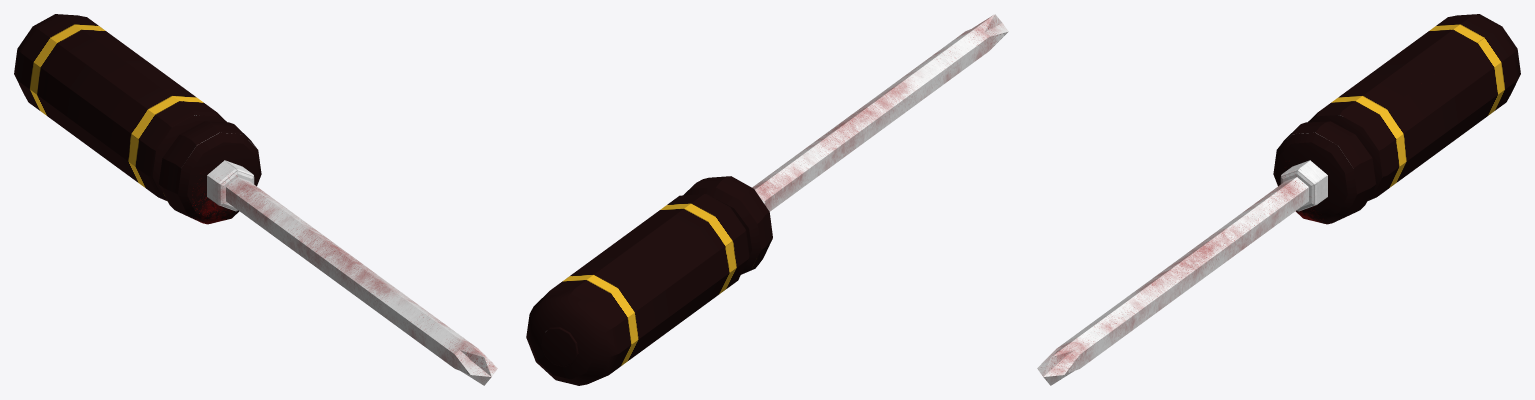
The model's file is Obeng.fbx.
3 views of the same model, side by side, from view 1: azimuth 30°, elevation 25°; view 2: azimuth 150°, elevation 25°; view 3: azimuth 330°, elevation 25° (orthographic).
Visible parts, largest first — view 1: Cylinder.002, Cylinder.003, Cylinder.001; view 2: Cylinder.002, Cylinder.003; view 3: Cylinder.002, Cylinder.003, Cylinder.001.
Boxes of the visible parts, x1=… form: Cylinder.002: x1=14, y1=14, x2=261, y2=224; Cylinder.003: x1=226, y1=177, x2=497, y2=385; Cylinder.001: x1=207, y1=160, x2=254, y2=211; Cylinder.002: x1=526, y1=176, x2=772, y2=385; Cylinder.003: x1=752, y1=14, x2=1008, y2=211; Cylinder.002: x1=1273, y1=14, x2=1520, y2=224; Cylinder.003: x1=1037, y1=177, x2=1308, y2=385; Cylinder.001: x1=1280, y1=160, x2=1327, y2=211.
Size of the model in its own units: 199 by 196 by 1683.
1 material, 1 textured.
